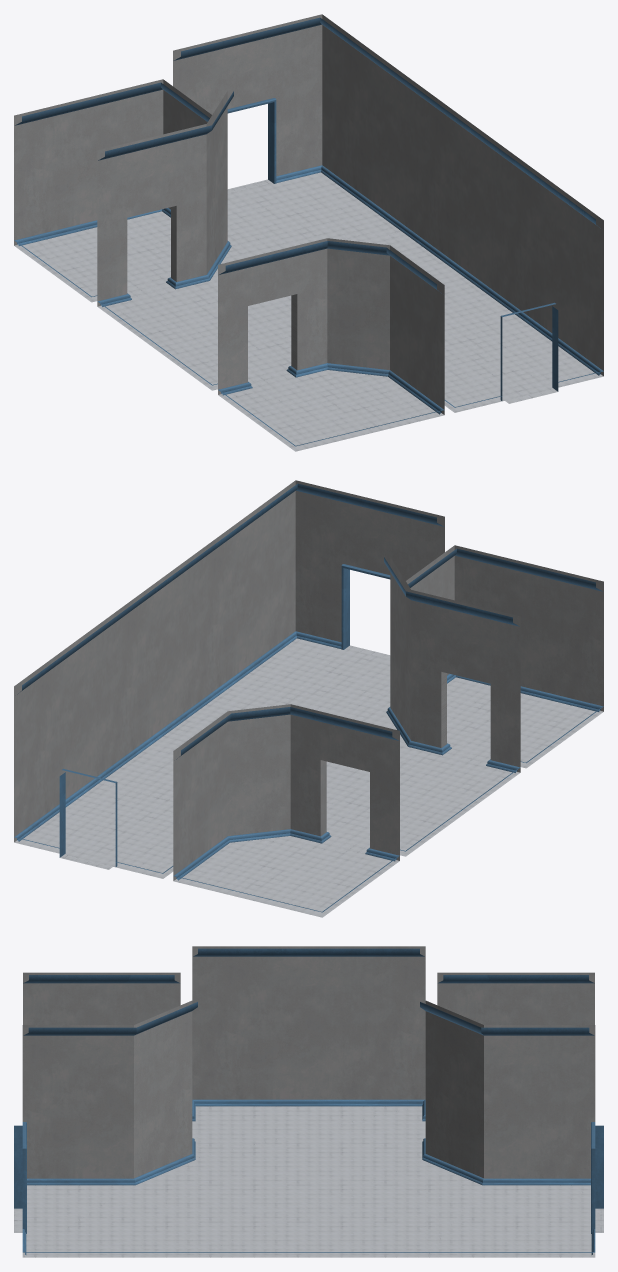
File: PZ_room2_minirooms.glb
3 renders of one model, top to bottom at view 1: azimuth 30°, elevation 25°; view 2: azimuth 150°, elevation 25°; view 3: azimuth 270°, elevation 25°, orthographic.
Visible parts, largest first — view 1: PZ_HallwayI.002; view 2: PZ_HallwayI.002; view 3: PZ_HallwayI.002.
Part boxes in pixels (x1,y1,x2,y2): PZ_HallwayI.002: [14, 14, 603, 451]; PZ_HallwayI.002: [14, 480, 603, 917]; PZ_HallwayI.002: [14, 946, 603, 1257].
Bounding box in the file's own units: 6.2 × 3 × 10.11.
Materials: 3 (3 with a texture image).
